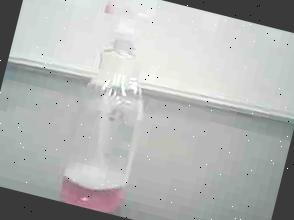hazard: (45, 0, 182, 219)
